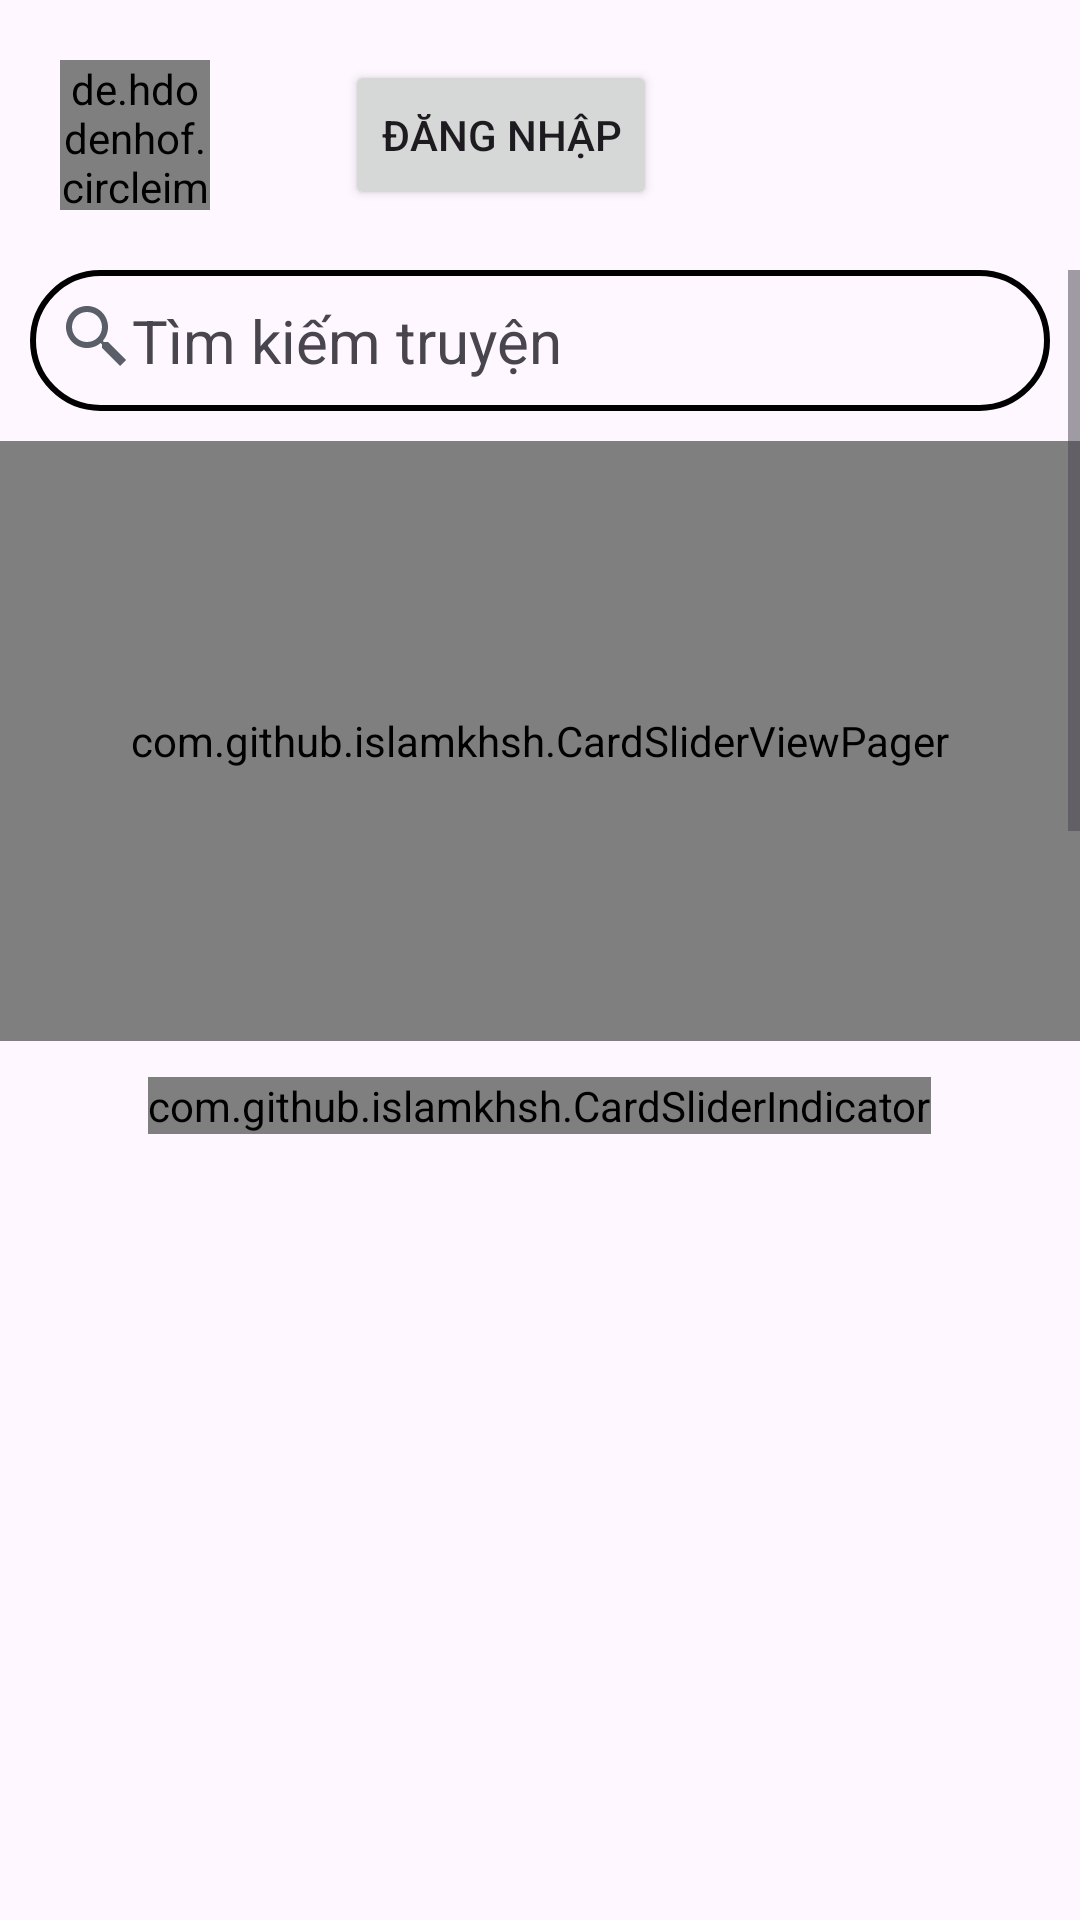

Icons on this 1080 x 1920 Android screen, each with its box as (x1, y1, x2, y2):
search: (66, 306, 126, 366)
